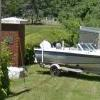Boat: (31, 34, 99, 72)
